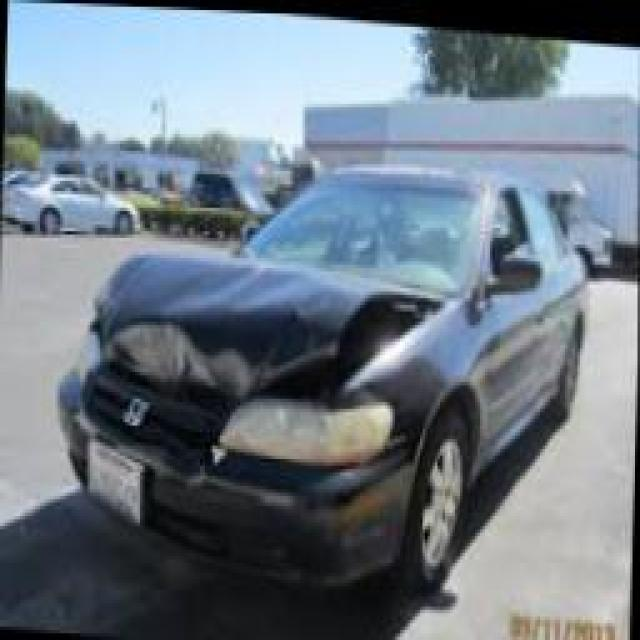Bonnet: (102, 241, 333, 394)
